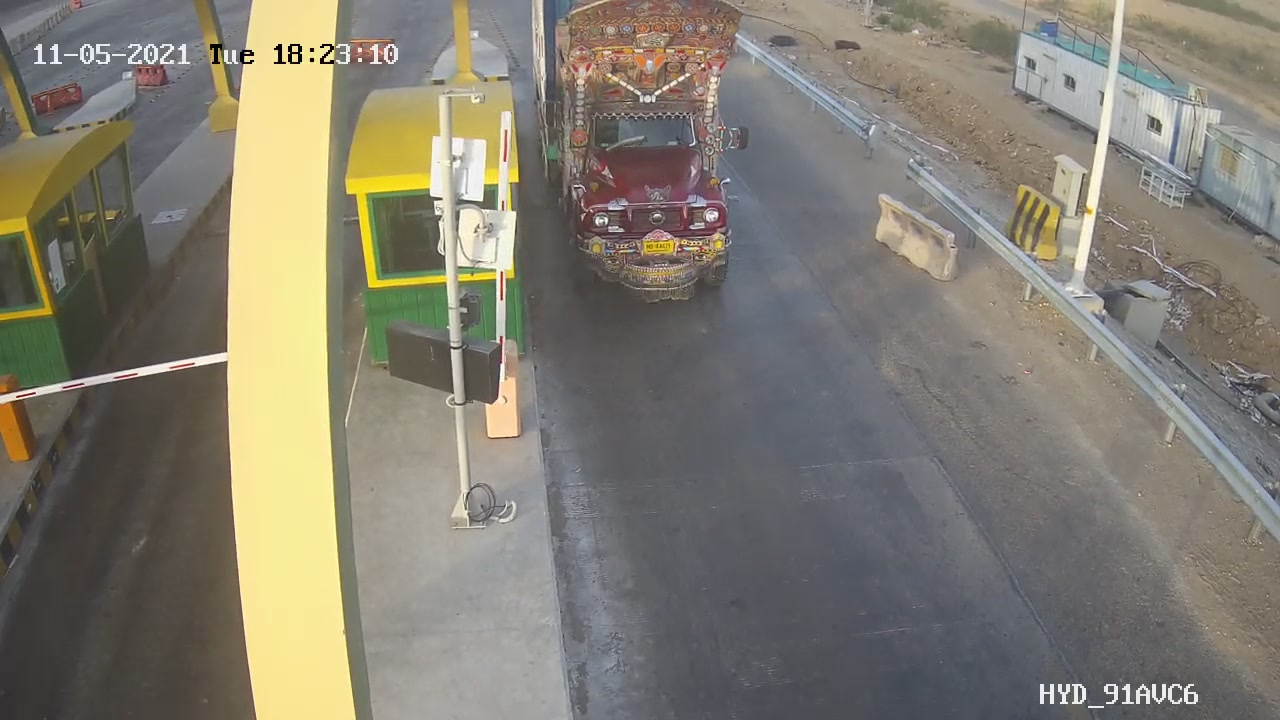F5: (529, 21, 759, 314)
